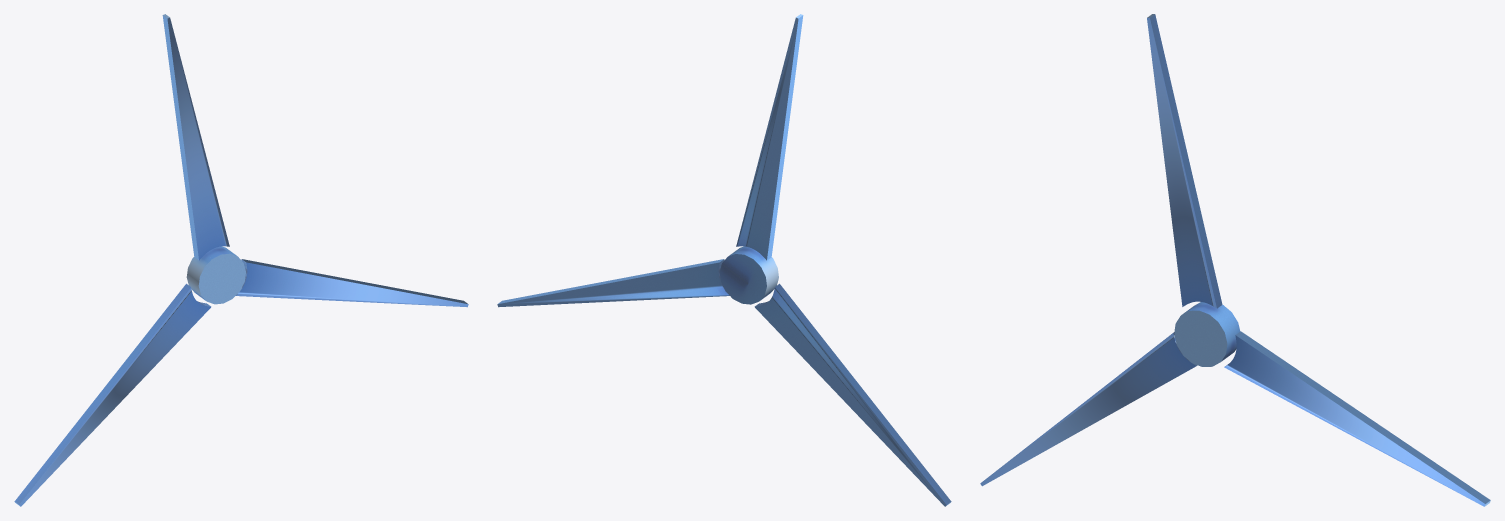
The model's file is wing.gltf.
The picture shows the model from 3 angles, left to right: view 1: azimuth 30°, elevation 25°; view 2: azimuth 150°, elevation 25°; view 3: azimuth 330°, elevation 25°; orthographic projection. The views are drawn at different scales.
Parts seen in each view (by area): view 1: wing_A_low; view 2: wing_A_low; view 3: wing_A_low.
Boxes of the visible parts, x1,y1,x2,y2 form: wing_A_low: (14,14,468,506); wing_A_low: (497,14,951,506); wing_A_low: (980,14,1490,506).
Bounding box in the file's own units: 3.28 × 3.16 × 0.1514.
Materials: 1 (1 with a texture image).
